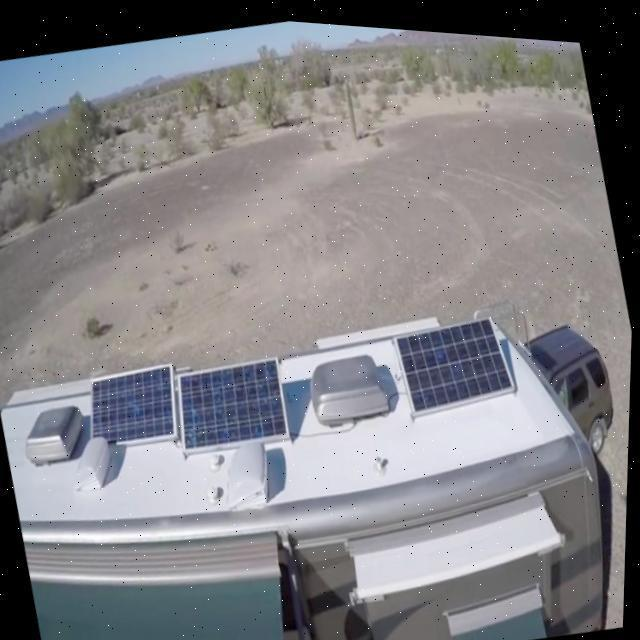Normal Solar Panel: (393, 302, 520, 412), (172, 349, 292, 452), (82, 358, 186, 448)
